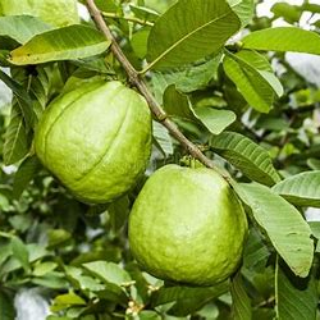oi: (125, 160, 252, 291), (39, 73, 149, 203)
